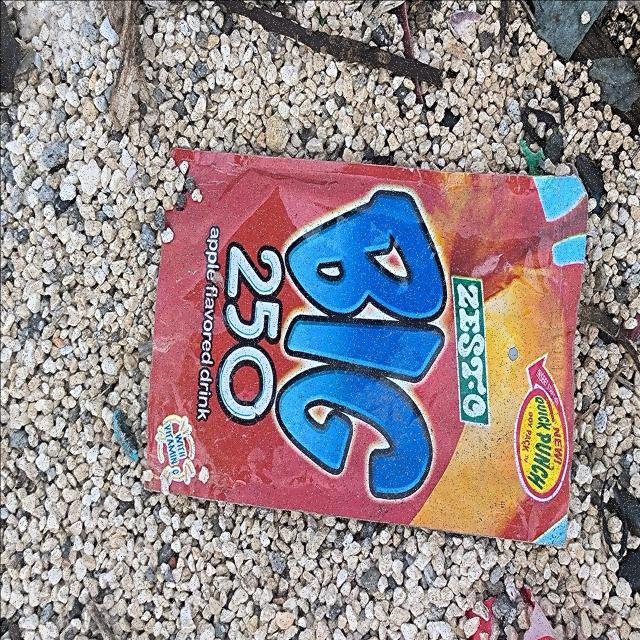plastic_waste: (142, 141, 590, 553)
